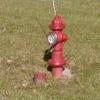Hydrant: (40, 11, 68, 84)
